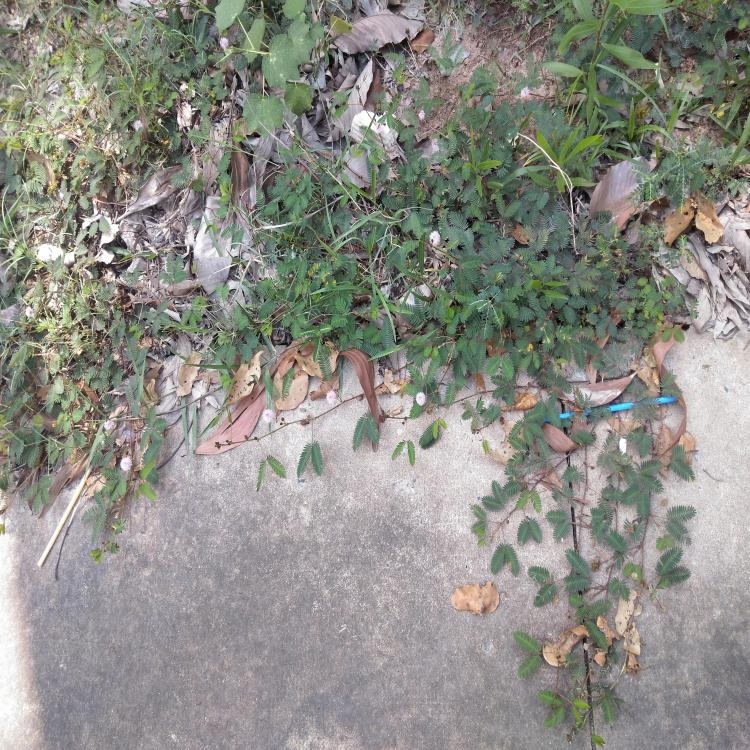Plastic straw: (37, 465, 92, 566), (544, 396, 678, 423)
